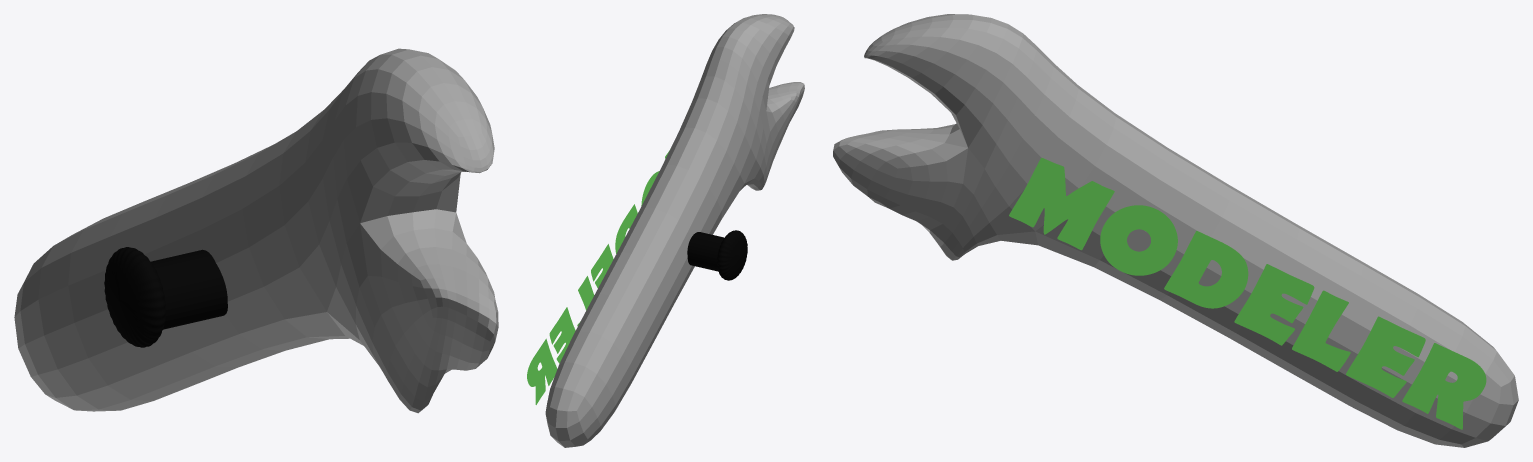
The model's file is modelerwrench CHARM.fbx.
3 views of the same model, side by side, from view 1: azimuth 30°, elevation 25°; view 2: azimuth 150°, elevation 25°; view 3: azimuth 270°, elevation 25° (orthographic). The views are drawn at different scales.
Visible parts, largest first — view 1: Cube, Cylinder.001, Cylinder; view 2: Cube, Text, Cylinder.001, Cylinder; view 3: Cube, Text.
Boxes of the visible parts, <box> form: Cube: <box>14,48,498,413</box>; Cylinder.001: <box>104,247,165,347</box>; Cylinder: <box>151,249,227,329</box>; Cube: <box>545,14,804,447</box>; Text: <box>527,150,669,404</box>; Cylinder.001: <box>717,230,747,280</box>; Cylinder: <box>687,232,723,271</box>; Cube: <box>833,14,1518,447</box>; Text: <box>1009,157,1486,429</box>.
Bounding box in the file's own units: 95.49 × 244 × 354.
